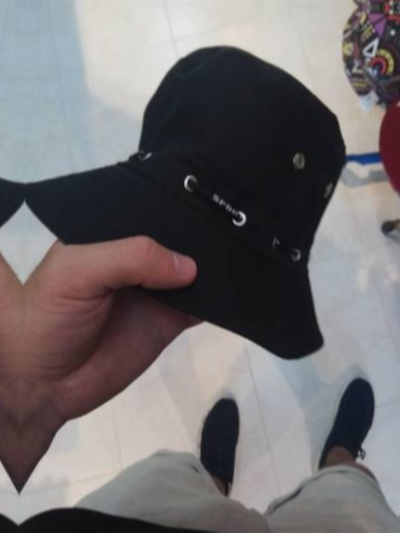Hat: (29, 30, 348, 379), (0, 23, 19, 372)
